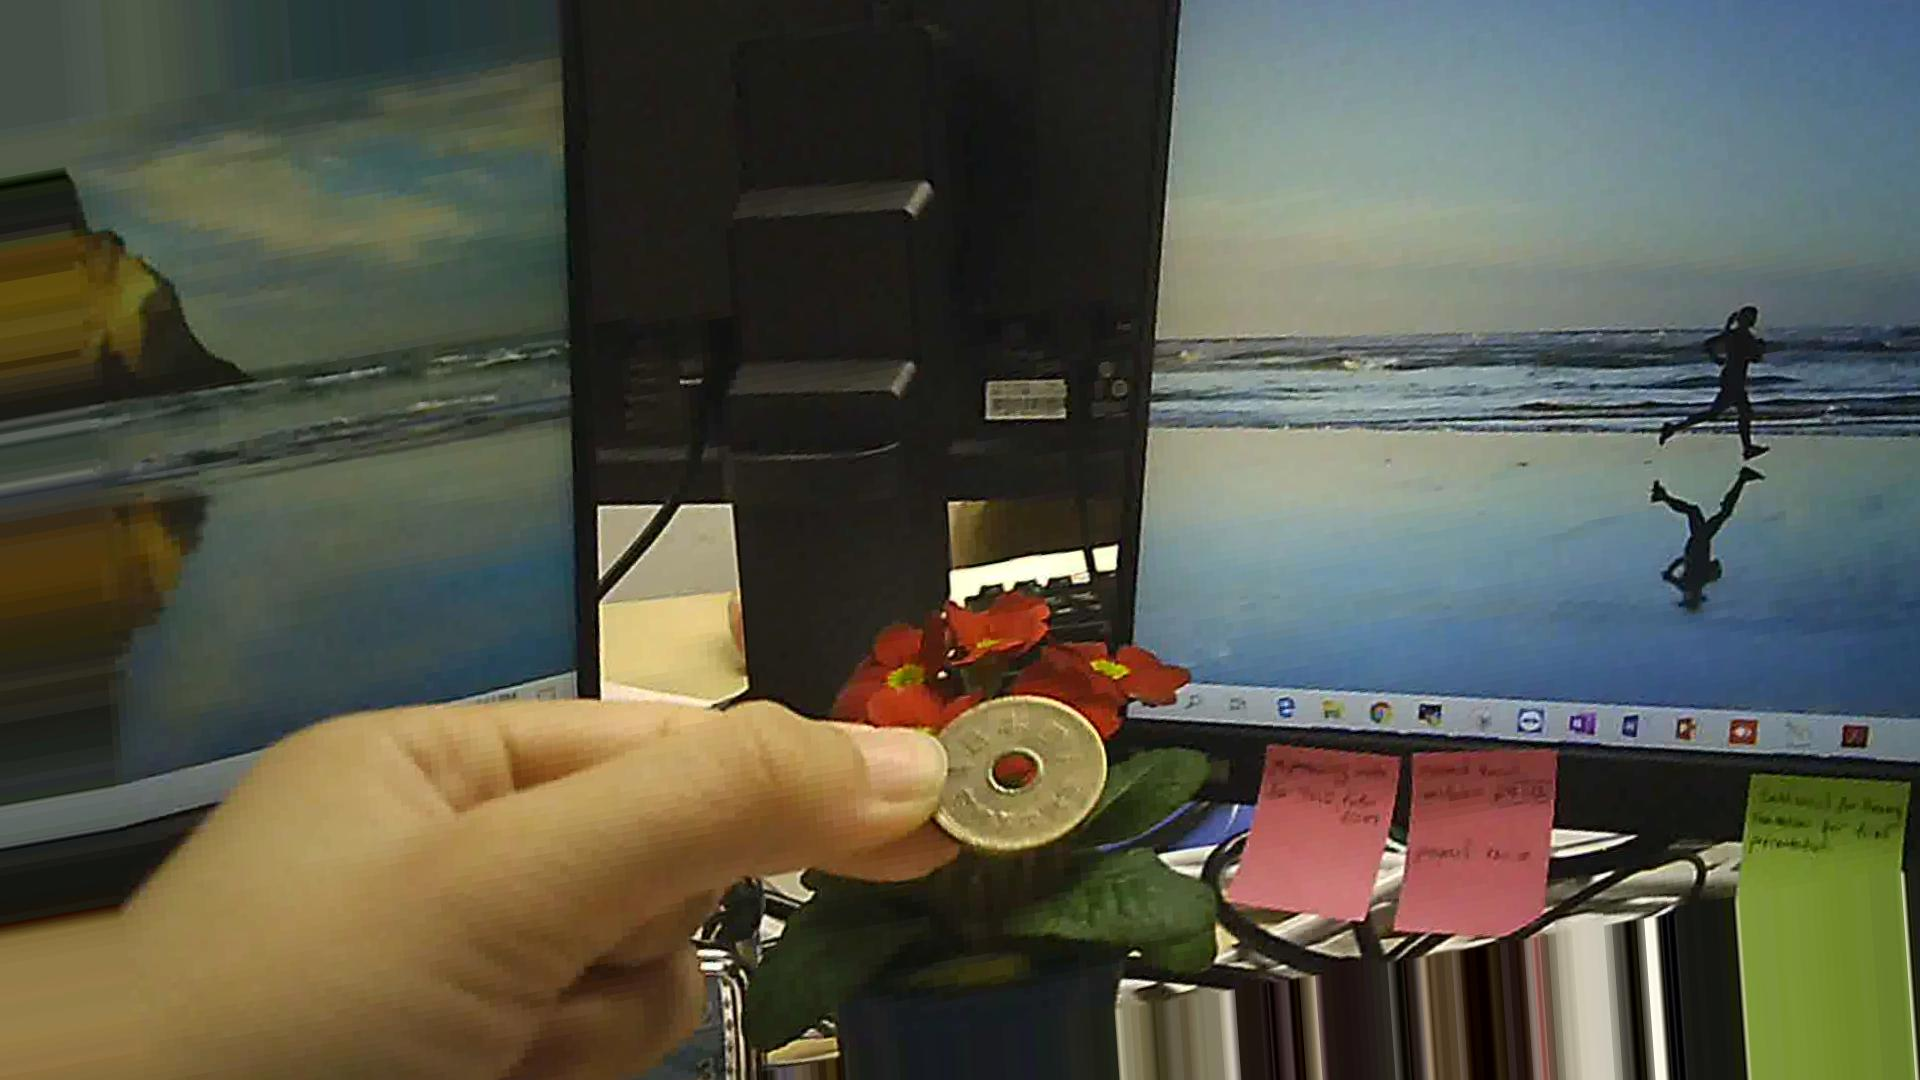5 Yen: (902, 674, 1108, 877)
